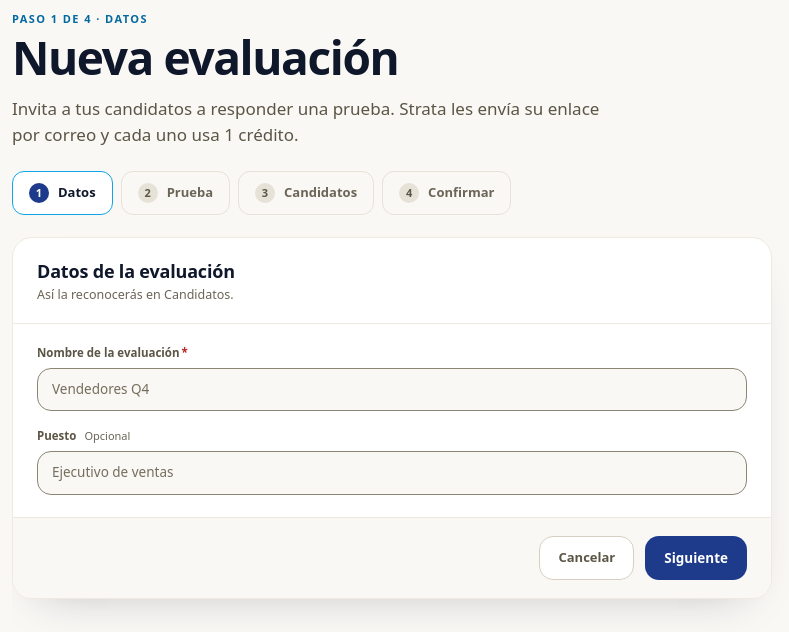
Test: NuevaEvaluacion · pasos › paso 2: la prueba fija (id 1) aparece elegida, con la explicación
Click the field labelled "Nombre de la evaluación" at (392, 390), box [38,369,746,410]
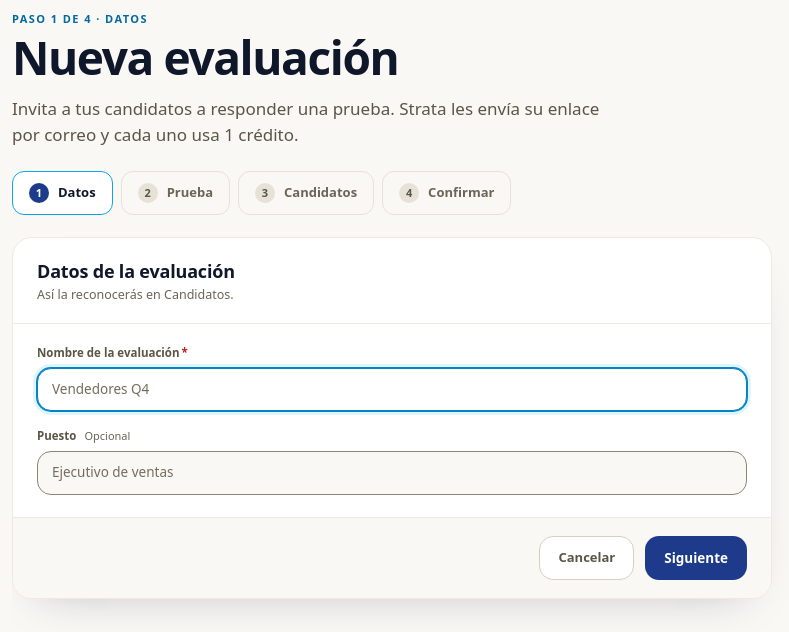
Type keys "Vendedores Q4"
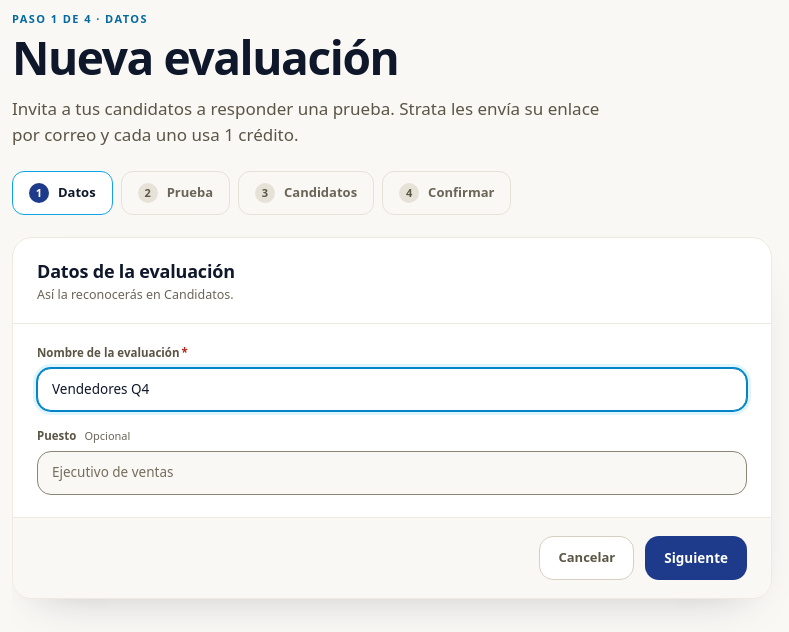
Click the field labelled "Puesto" at (392, 473), box [38,452,746,494]
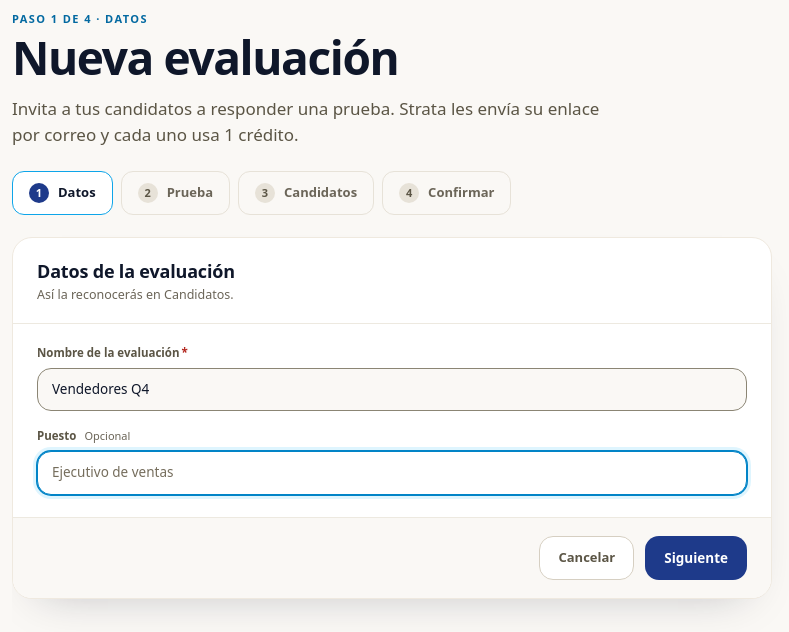
Type keys "Ejecutivo de ventas"
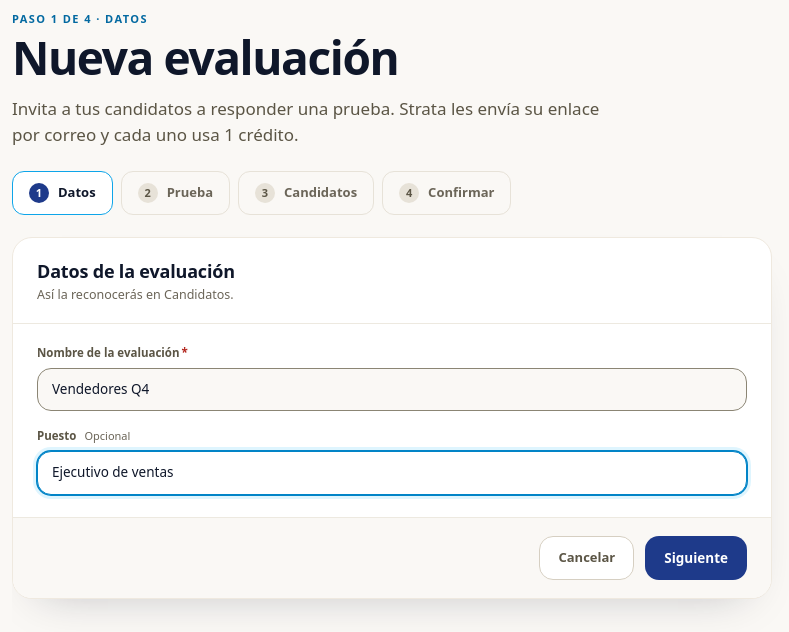
Click the button "Siguiente" at (696, 558), box [645,536,747,580]
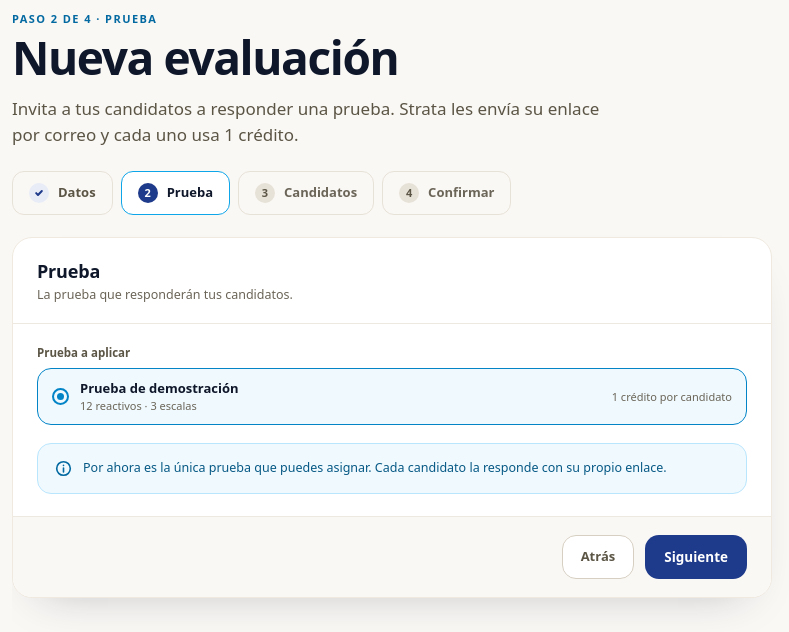
Check: the radio button labelled "Prueba de demostración" is checked, box [37,368,747,425]
Check: the text "Por ahora es la única prueba que puedes asignar" is shown, box [83,459,667,476]
Click the button "Atrás" at (598, 557), box [562,535,634,579]
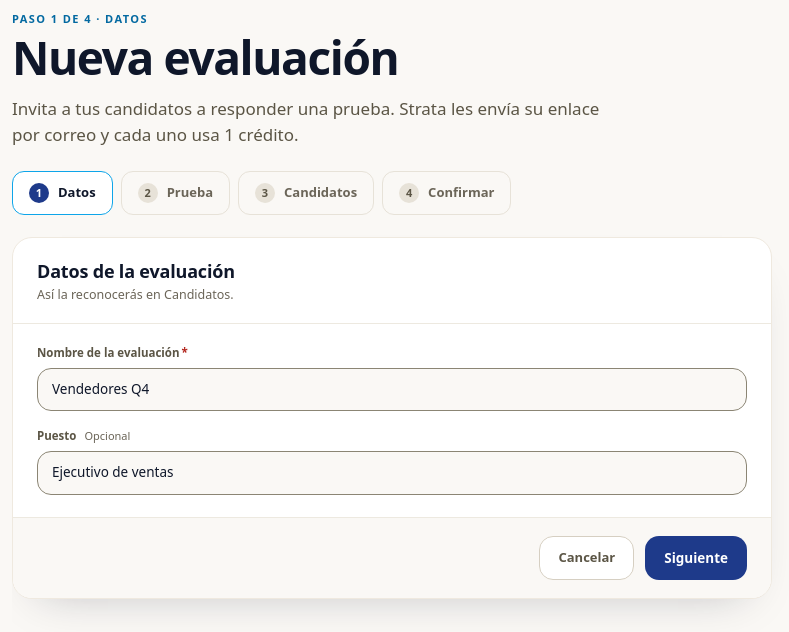
Check: the heading "Datos de la evaluación" is shown, box [37,259,235,283]
Check: the field labelled "Nombre de la evaluación" holds "Vendedores Q4", box [38,369,746,410]
